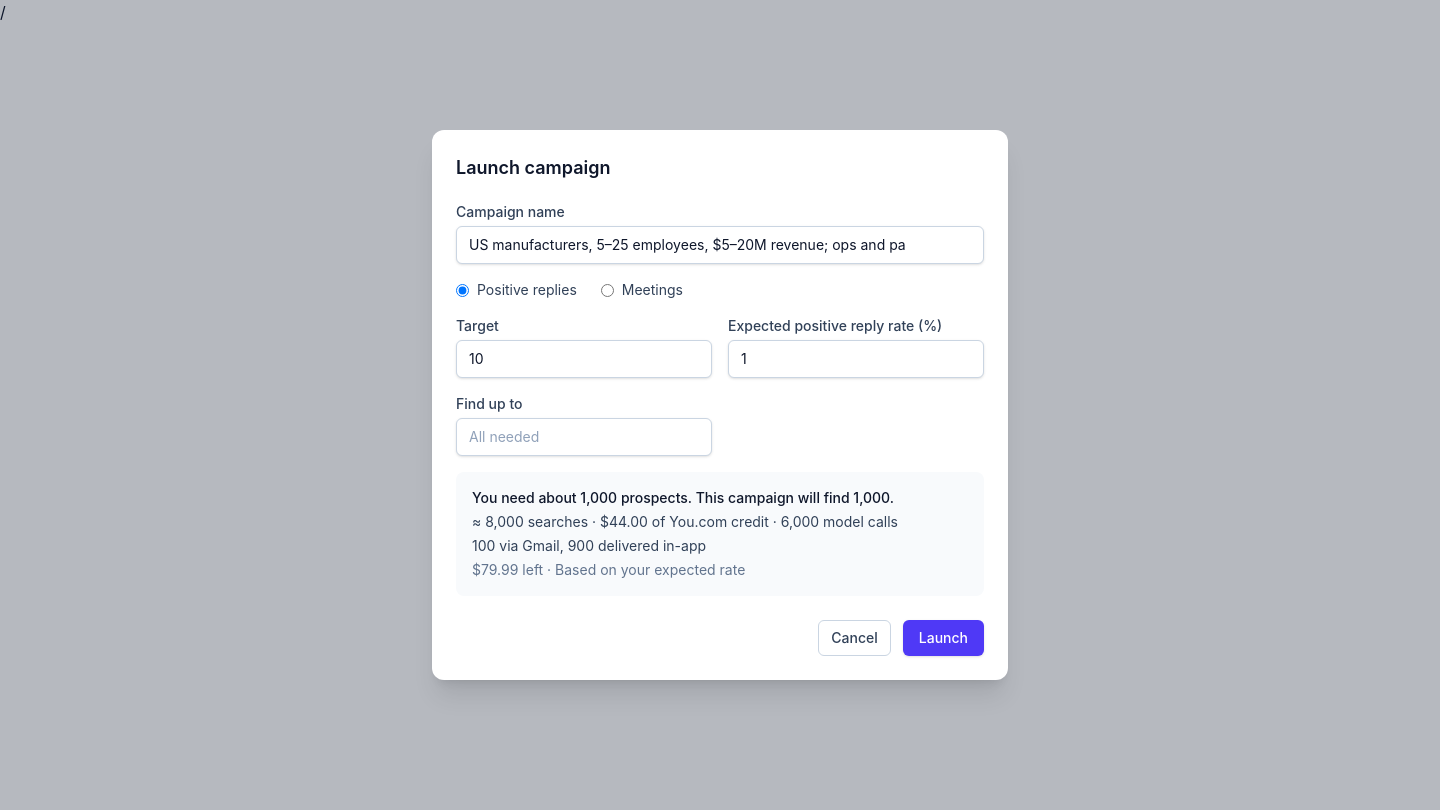
Test case: creates, runs, and navigates
This screenshot has width=1440, height=810.
Check: the text "1,000" is shown, box left=472, top=489, right=894, bottom=506
Click the button "Launch".
click(943, 638)  # box left=903, top=620, right=984, bottom=656
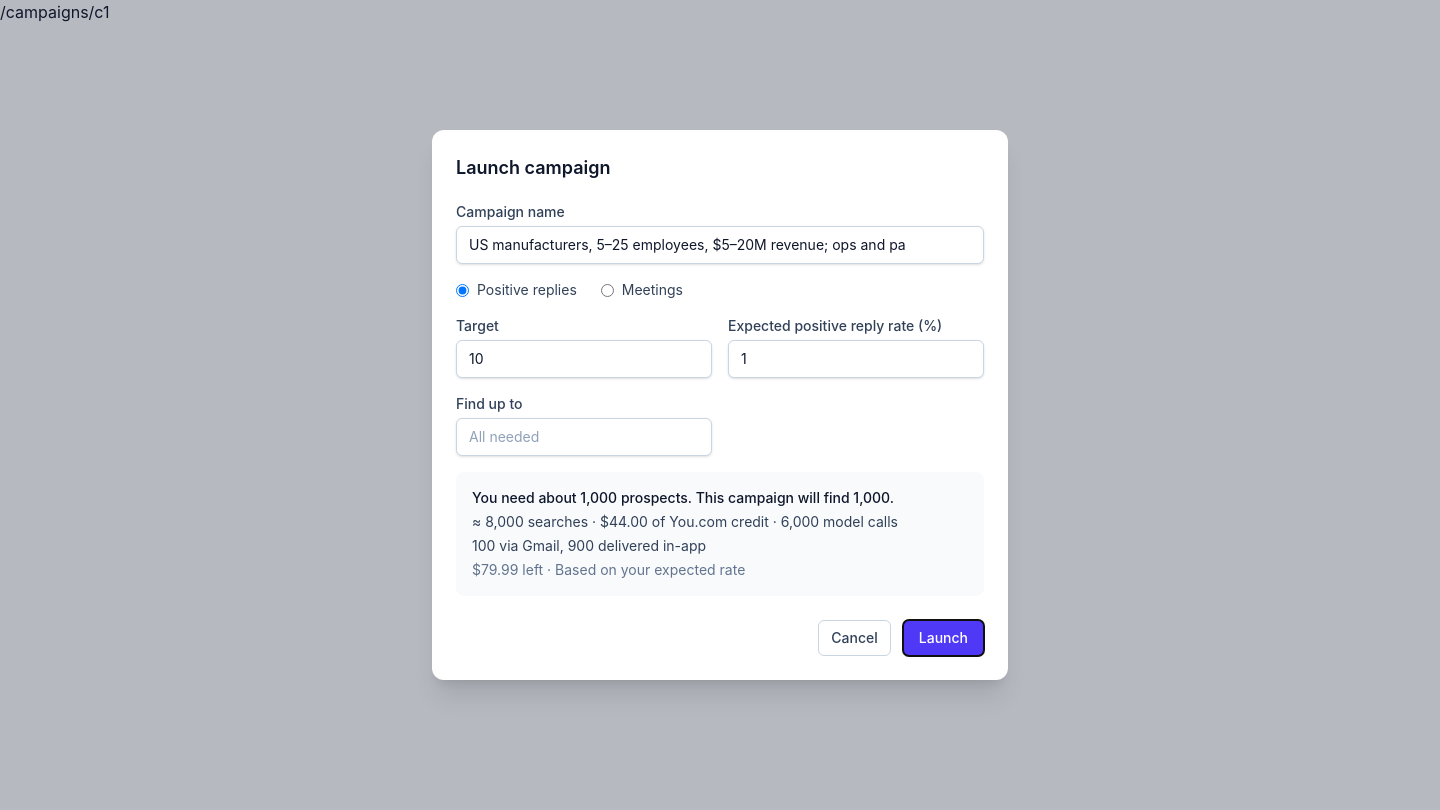
Check: the text with test id "location" reads "/campaigns/c1", box left=0, top=2, right=110, bottom=22
